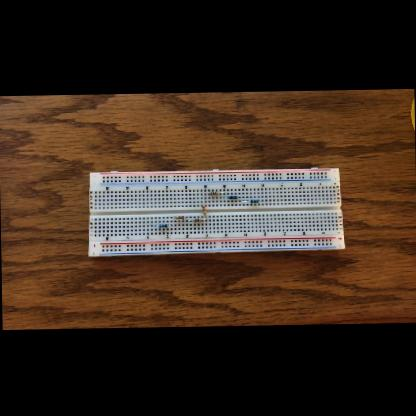breadboard: (88, 165, 344, 255)
resistor: (250, 198, 258, 202), (202, 204, 206, 212), (174, 215, 184, 218), (192, 218, 202, 221), (158, 223, 167, 226), (209, 191, 218, 194), (228, 195, 236, 198)
wire: (202, 199, 206, 203), (260, 198, 266, 200), (240, 199, 250, 200), (168, 223, 177, 224), (186, 219, 192, 220), (204, 214, 206, 217), (224, 195, 228, 196), (202, 218, 206, 219), (237, 195, 240, 196), (155, 223, 158, 224), (173, 215, 175, 216), (184, 215, 186, 216), (219, 192, 224, 192), (204, 192, 209, 192)
